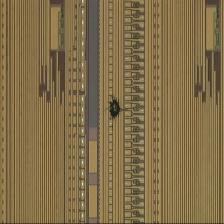PARTICLE: (105, 97, 126, 121)
